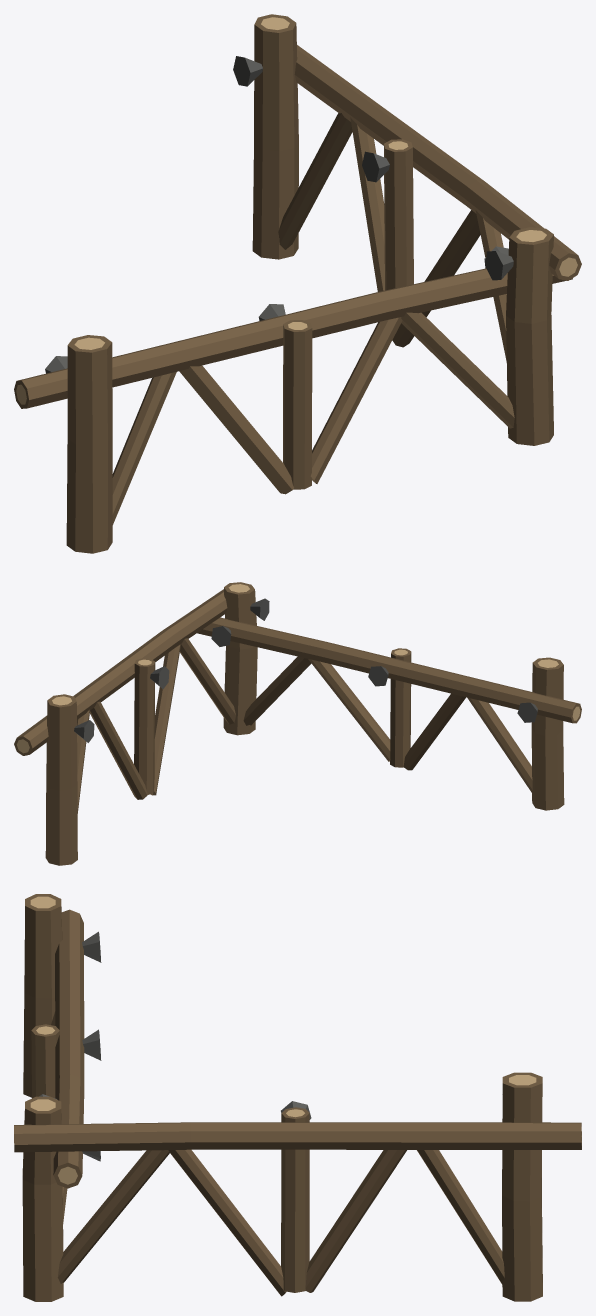
Rendered from rpgpp_ag_wall_platform_02_handrail_02_corner.fbx.
3 renders of one model, top to bottom at view 1: azimuth 30°, elevation 25°; view 2: azimuth 150°, elevation 25°; view 3: azimuth 270°, elevation 25°, orthographic. The views are drawn at different scales.
Visible parts, largest first — view 1: rpgpp_ag_wall_platform_02_handrail_02_corner; view 2: rpgpp_ag_wall_platform_02_handrail_02_corner; view 3: rpgpp_ag_wall_platform_02_handrail_02_corner.
Part boxes in pixels (left/top/right/bottom): rpgpp_ag_wall_platform_02_handrail_02_corner: left=14, top=14, right=581, bottom=553; rpgpp_ag_wall_platform_02_handrail_02_corner: left=14, top=582, right=581, bottom=865; rpgpp_ag_wall_platform_02_handrail_02_corner: left=14, top=894, right=581, bottom=1301.
Size of the model in its own units: 4.39 by 1.76 by 4.21.
